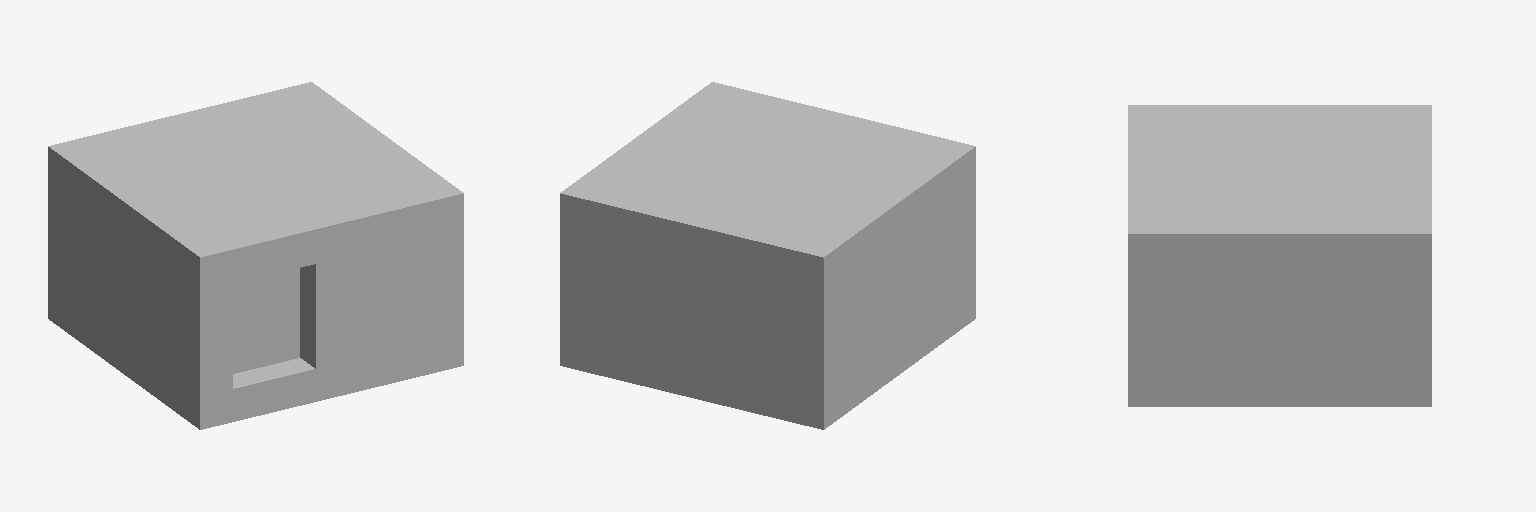
The model's file is building-window-left.obj.
The picture shows the model from 3 angles: view 1: azimuth 30°, elevation 25°; view 2: azimuth 150°, elevation 25°; view 3: azimuth 270°, elevation 25°; orthographic projection.
Visible parts, largest first — view 1: building-window-left; view 2: building-window-left; view 3: building-window-left.
Boxes of the visible parts, <box> form: building-window-left: <box>48,82,463,429</box>; building-window-left: <box>560,82,975,429</box>; building-window-left: <box>1128,105,1431,406</box>.
Size of the model in its own units: 1 by 0.625 by 1.